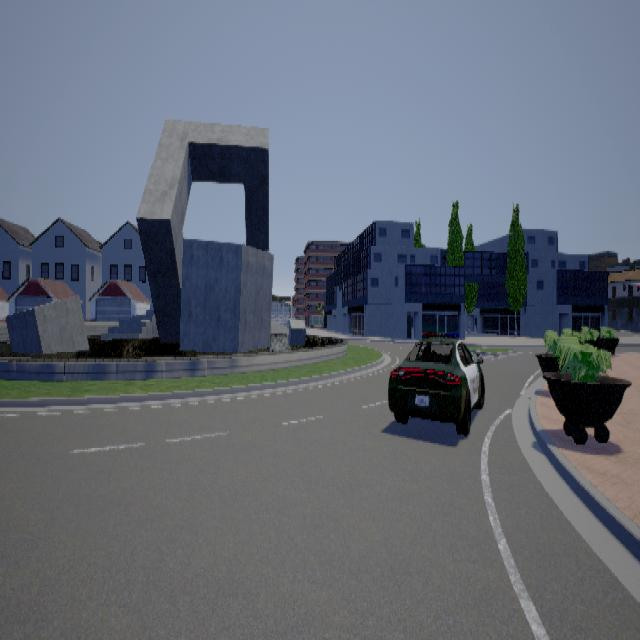vehicle: (387, 330, 484, 435)
